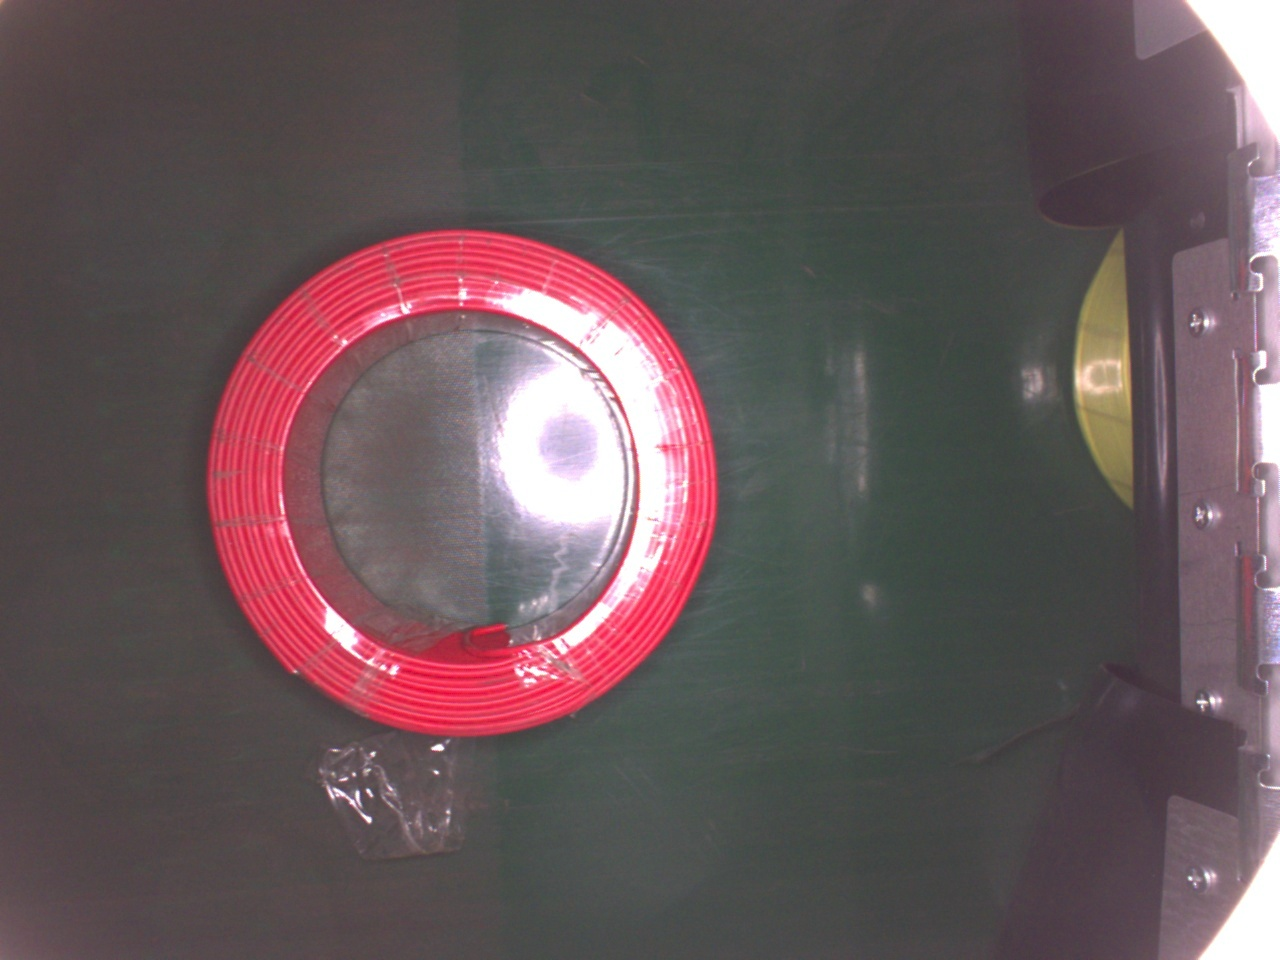red: (195, 221, 715, 742)
